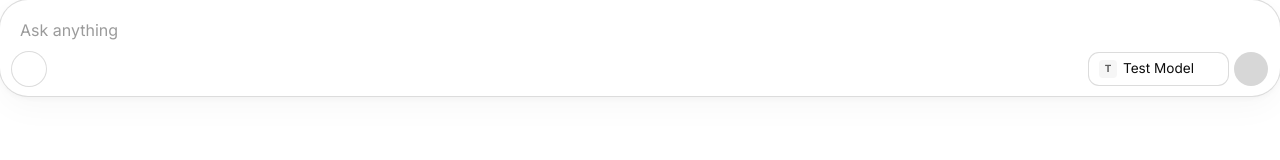
Scenario: MessageForm — @mention autocomplete › Enter picks the highlighted file into the input
The width and height of the screenshot is (1280, 160).
Type "@da" into the text box with placeholder "Ask anything". click: (640, 28)
box: [12,6,1268,50]
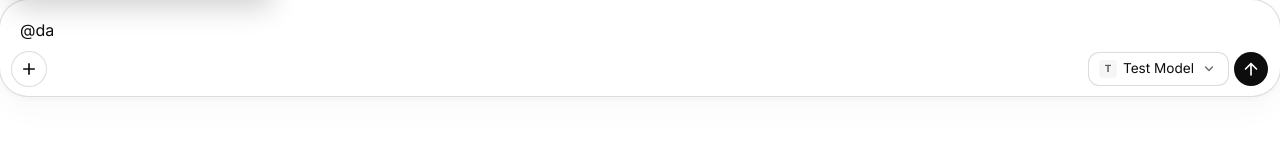
Press Enter in the text box, box [12,6,1268,50]
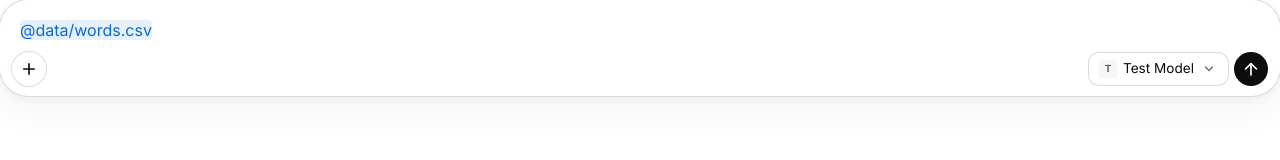
Now the text box holds "@data/words.csv ", box [12,6,1268,50]
